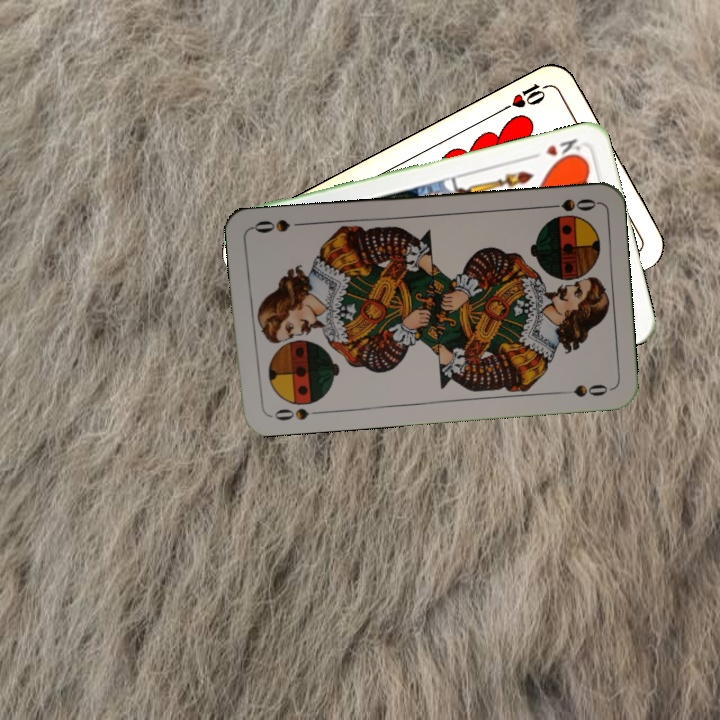H10: (498, 79, 554, 114)
HK: (541, 134, 586, 165)
SO: (539, 194, 598, 214), (264, 404, 311, 424)
